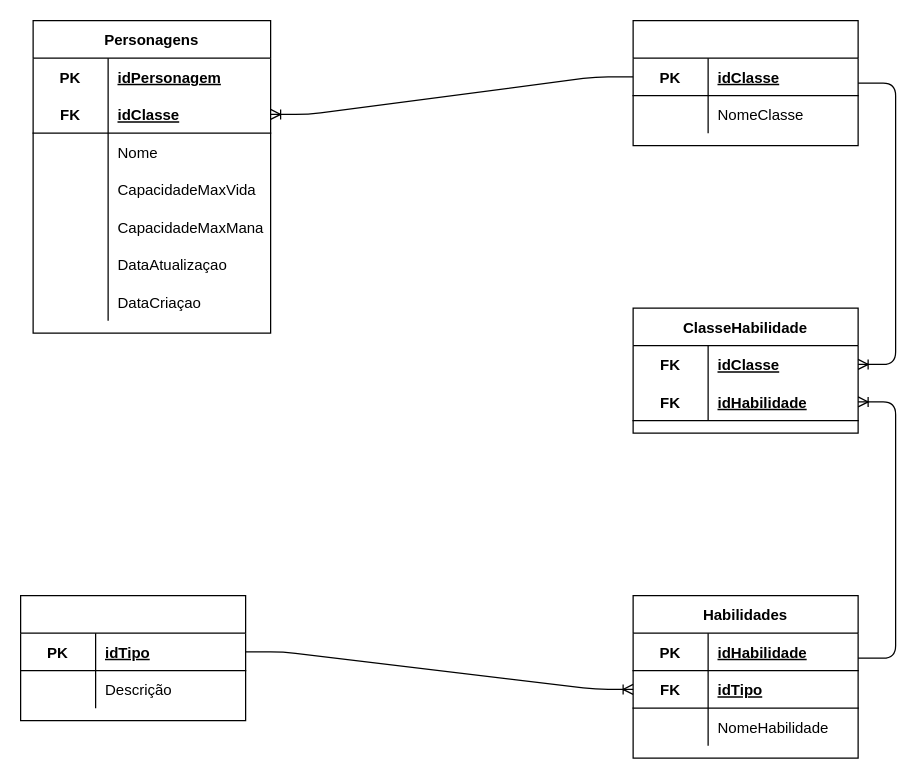
Image size: 916x779. Some labels were removed from this diagram. The box of each missing label's shape, as (x1, y1, x2, y2) in pixels:
Classes: (632, 19, 858, 146)
Tipos de Habilidades: (19, 594, 246, 721)
